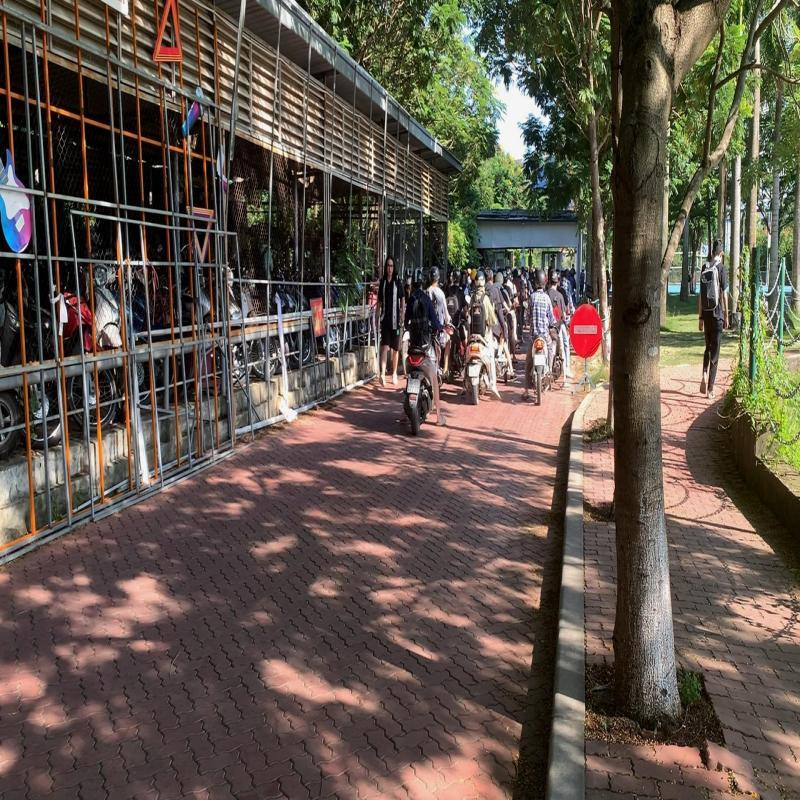helmet: (412, 268, 423, 290), (534, 270, 546, 290), (474, 272, 485, 288)
licenseplate: (407, 378, 420, 395), (469, 364, 480, 376), (535, 354, 546, 366)
motorcyclist: (402, 268, 446, 435), (462, 271, 502, 406), (522, 270, 554, 406)
